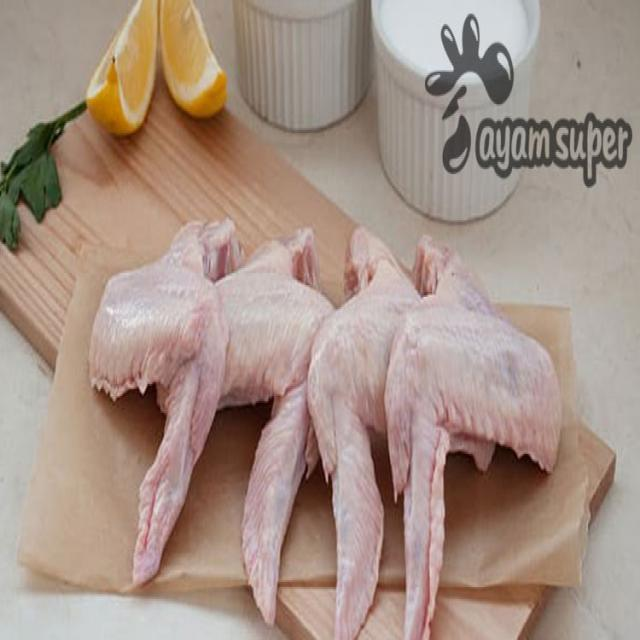chicken: (94, 222, 558, 638), (386, 234, 561, 640), (205, 225, 334, 623), (94, 222, 232, 589), (310, 231, 401, 640)
